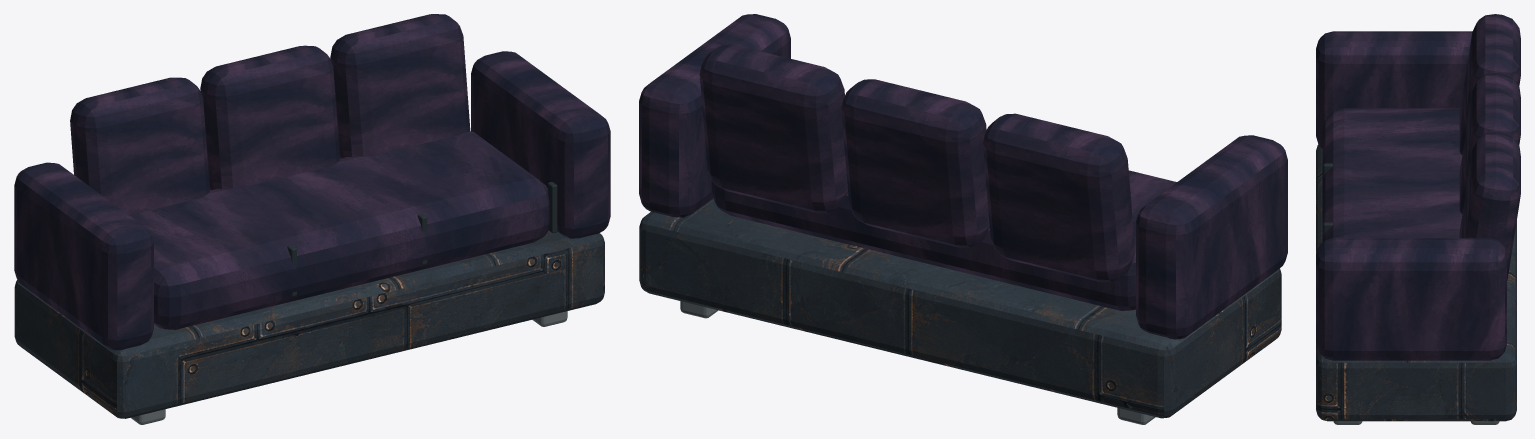
Rendered from APT_Couch_2Seat_Plum.glb.
3 views of the same model, side by side, from view 1: azimuth 30°, elevation 25°; view 2: azimuth 150°, elevation 25°; view 3: azimuth 270°, elevation 25° (orthographic). The views are drawn at different scales.
Visible parts, largest first — view 1: APT_Couch_2Seat_Plum_Seat, APT_Couch_2Seat_Plum_Frame, APT_Couch_2Seat_Plum_Arm_-1.0, APT_Couch_2Seat_Plum_BackCushion_2, APT_Couch_2Seat_Plum_BackCushion_1, APT_Couch_2Seat_Plum_Arm_1.0, APT_Couch_2Seat_Plum_BackCushion_0; view 2: APT_Couch_2Seat_Plum_Frame, APT_Couch_2Seat_Plum_Arm_-1.0, APT_Couch_2Seat_Plum_BackCushion_0, APT_Couch_2Seat_Plum_BackCushion_2, APT_Couch_2Seat_Plum_BackCushion_1, APT_Couch_2Seat_Plum_Seat, APT_Couch_2Seat_Plum_Arm_1.0; view 3: APT_Couch_2Seat_Plum_Arm_1.0, APT_Couch_2Seat_Plum_Seat, APT_Couch_2Seat_Plum_Frame, APT_Couch_2Seat_Plum_Arm_-1.0, APT_Couch_2Seat_Plum_BackCushion_2, APT_Couch_2Seat_Plum_BackCushion_0, APT_Couch_2Seat_Plum_BackCushion_1.
Part boxes in pixels (left/top/right/bottom): APT_Couch_2Seat_Plum_Seat: left=129, top=131, right=549, bottom=329; APT_Couch_2Seat_Plum_Frame: left=14, top=230, right=604, bottom=418; APT_Couch_2Seat_Plum_Arm_-1.0: left=14, top=162, right=153, bottom=350; APT_Couch_2Seat_Plum_BackCushion_2: left=330, top=14, right=470, bottom=158; APT_Couch_2Seat_Plum_BackCushion_1: left=200, top=45, right=339, bottom=190; APT_Couch_2Seat_Plum_Arm_1.0: left=471, top=51, right=610, bottom=238; APT_Couch_2Seat_Plum_BackCushion_0: left=70, top=77, right=209, bottom=215; APT_Couch_2Seat_Plum_Frame: left=639, top=198, right=1281, bottom=418; APT_Couch_2Seat_Plum_Arm_-1.0: left=1136, top=135, right=1287, bottom=339; APT_Couch_2Seat_Plum_BackCushion_0: left=983, top=113, right=1135, bottom=282; APT_Couch_2Seat_Plum_BackCushion_2: left=699, top=44, right=847, bottom=213; APT_Couch_2Seat_Plum_BackCushion_1: left=841, top=79, right=989, bottom=247; APT_Couch_2Seat_Plum_Seat: left=711, top=170, right=1176, bottom=310; APT_Couch_2Seat_Plum_Arm_1.0: left=639, top=14, right=790, bottom=217; APT_Couch_2Seat_Plum_Arm_1.0: left=1316, top=238, right=1506, bottom=360; APT_Couch_2Seat_Plum_Seat: left=1322, top=108, right=1462, bottom=242; APT_Couch_2Seat_Plum_Frame: left=1316, top=144, right=1516, bottom=421; APT_Couch_2Seat_Plum_Arm_-1.0: left=1316, top=31, right=1472, bottom=148; APT_Couch_2Seat_Plum_BackCushion_2: left=1459, top=132, right=1520, bottom=280; APT_Couch_2Seat_Plum_BackCushion_0: left=1459, top=14, right=1520, bottom=154; APT_Couch_2Seat_Plum_BackCushion_1: left=1459, top=73, right=1520, bottom=213.
Bounding box in the file's own units: 2.22 × 1.06 × 0.8362.
4 materials, 2 textured.
